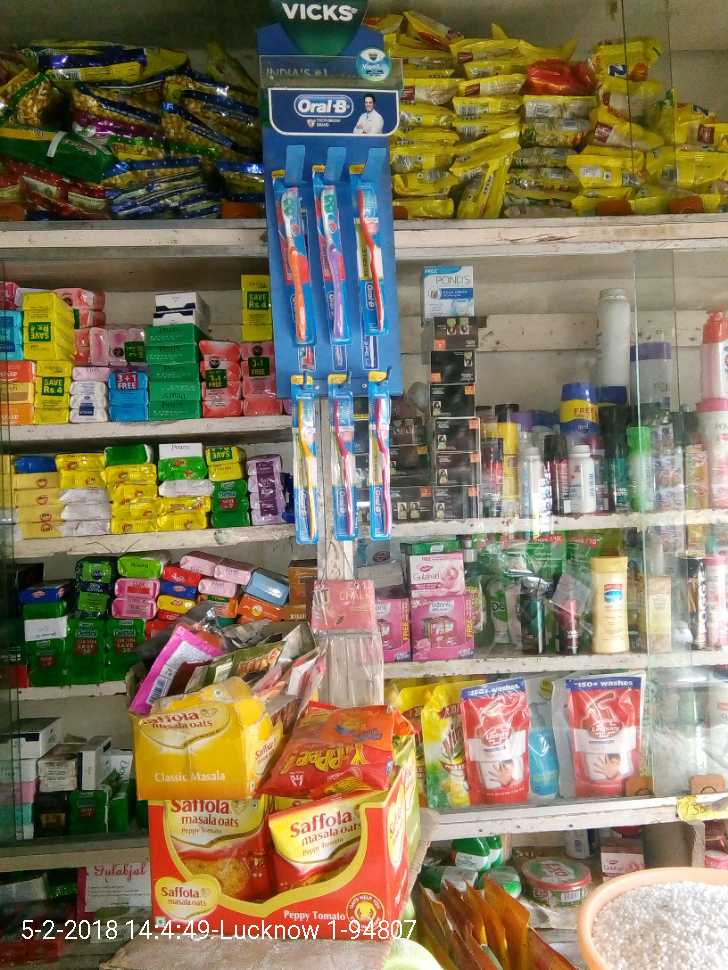oralb: (266, 169, 318, 344), (347, 166, 390, 338), (313, 165, 354, 345), (288, 376, 322, 539), (326, 372, 358, 544), (365, 367, 394, 539)
